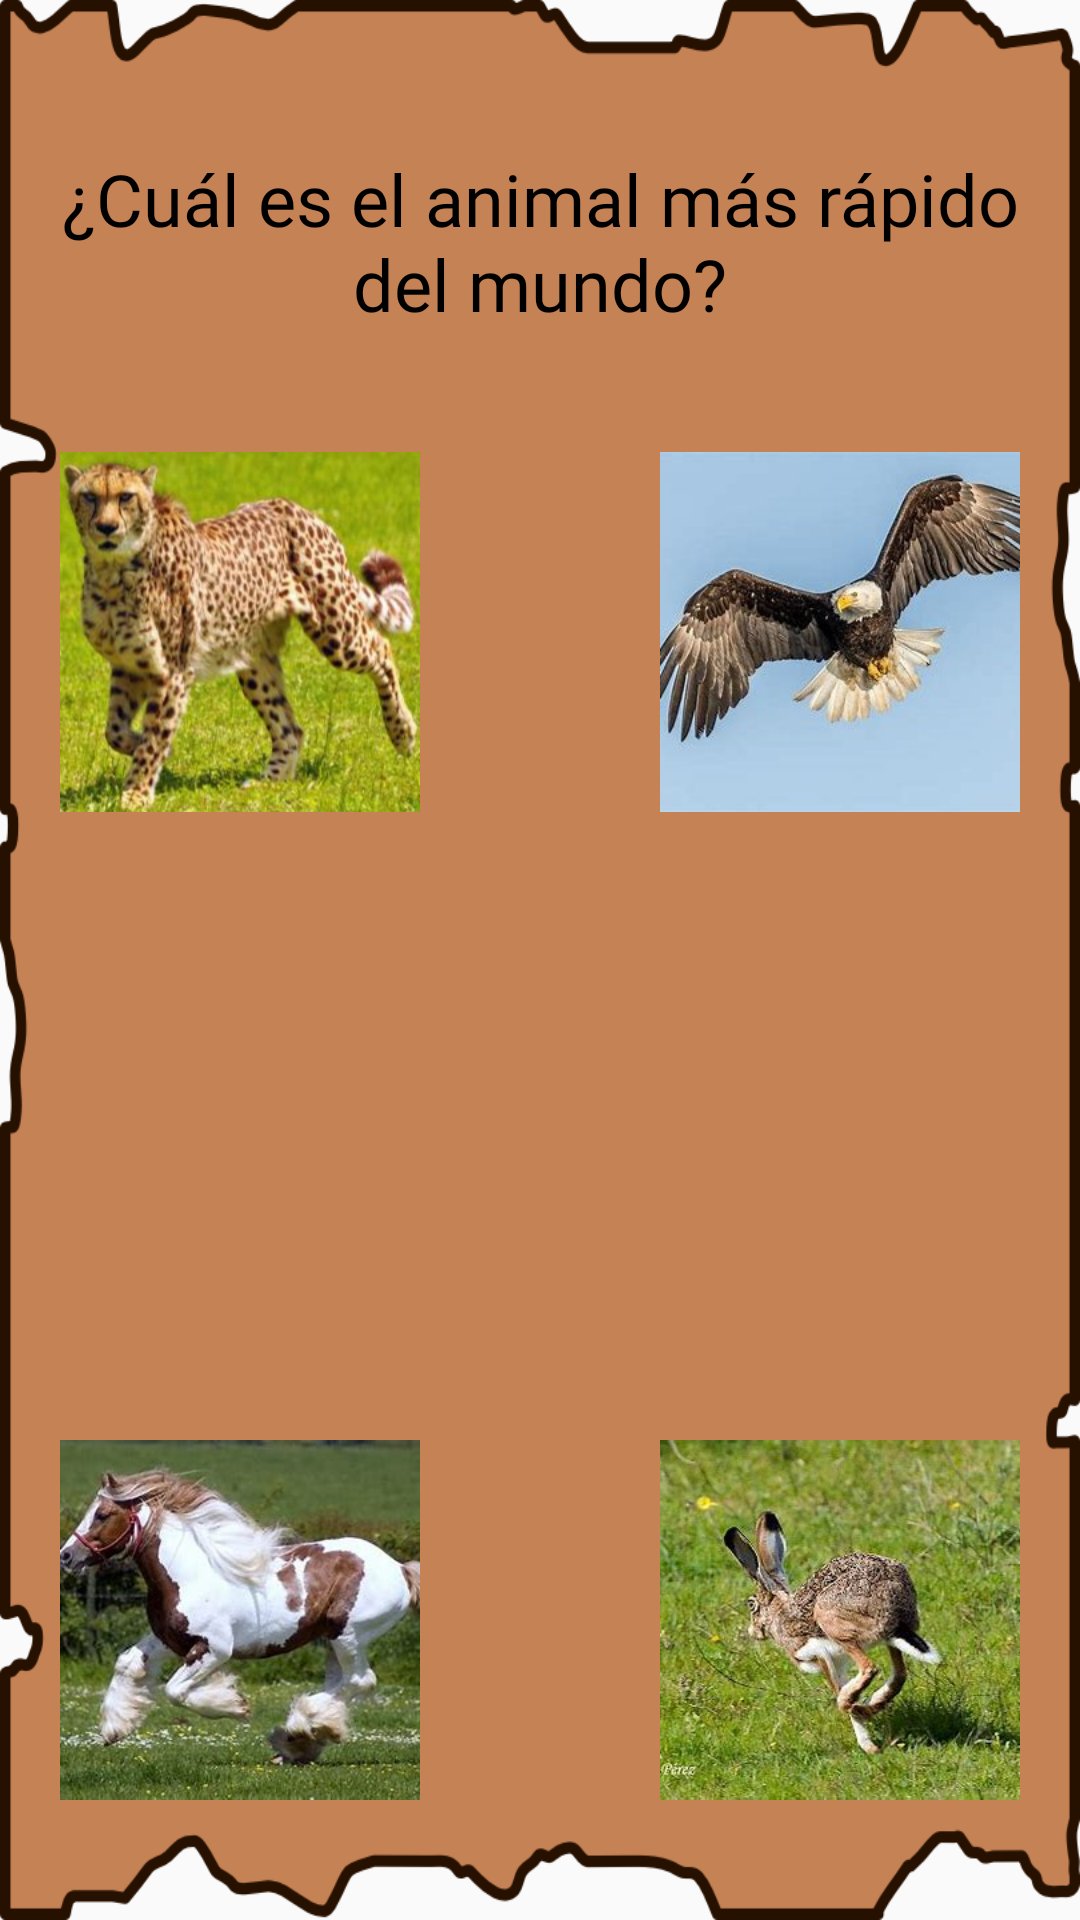

Icon bounding boxes for this 1080px x 1920px phone screenshot, format (x1, y1, x2, y2):
Caballo: (60, 1440, 420, 1800)
Guepardo: (60, 452, 420, 812)
Liebre: (660, 1440, 1020, 1800)
Águila: (660, 452, 1020, 812)
